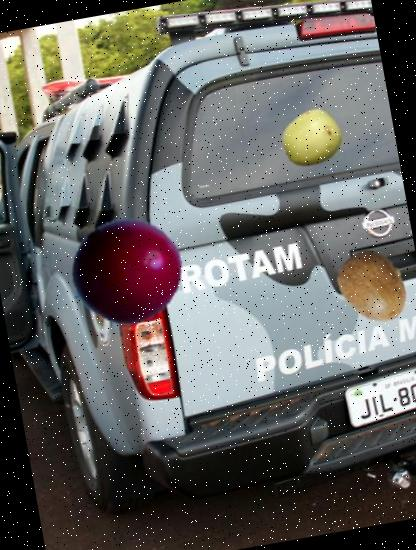Apple: (277, 104, 346, 172)
Kiwi: (327, 241, 416, 333)
Tamarillo: (60, 206, 191, 337)
